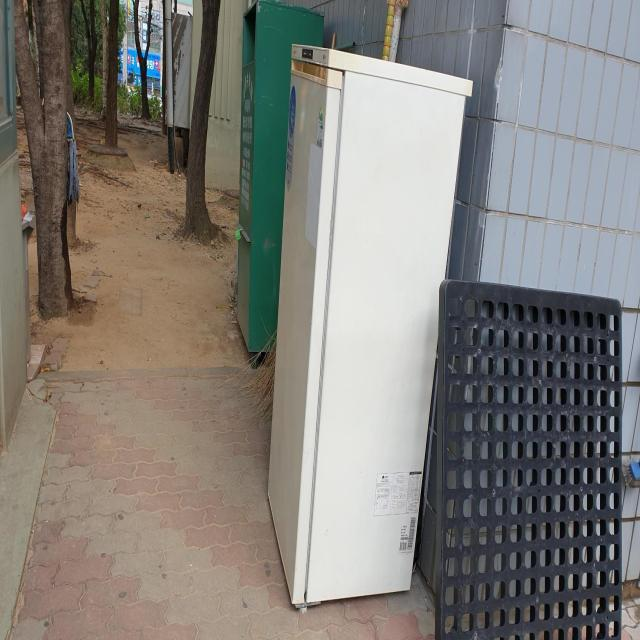refrigerator: (267, 44, 475, 609)
